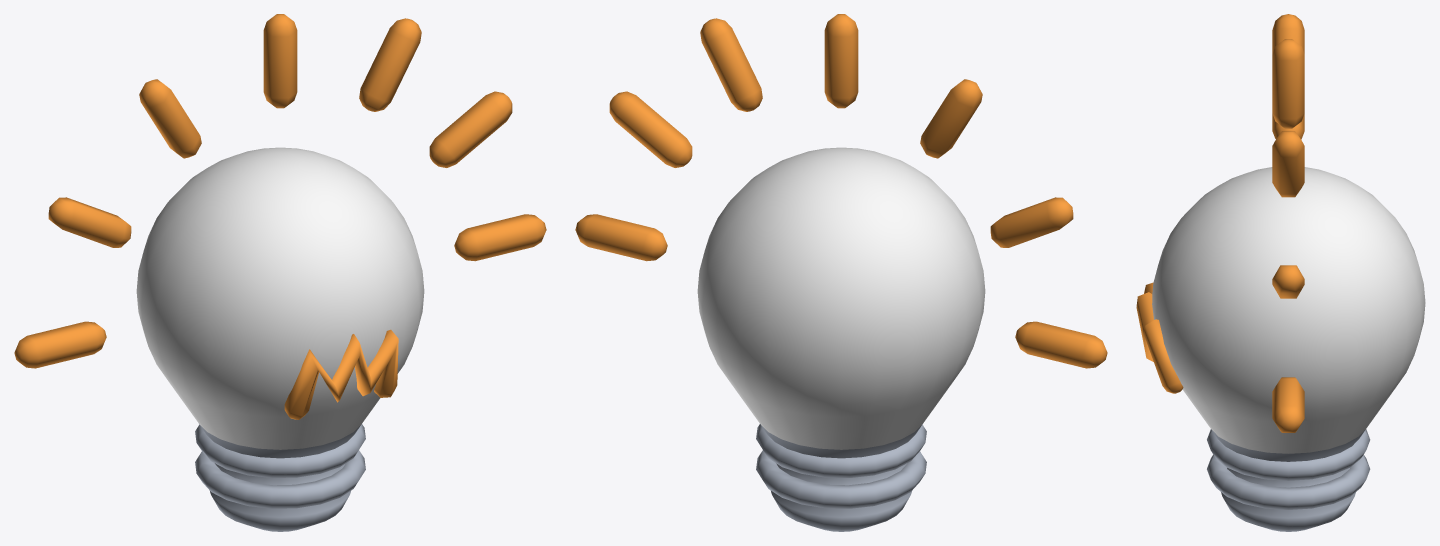
Rendered from lightbulb_on.glb.
3 renders of one model, left to right at view 1: azimuth 30°, elevation 25°; view 2: azimuth 150°, elevation 25°; view 3: azimuth 270°, elevation 25°, orthographic. The views are drawn at different scales.
Visible parts, largest first — view 1: lightbulb_on; view 2: lightbulb_on; view 3: lightbulb_on.
Part boxes in pixels (left/top/right/bottom): lightbulb_on: left=14, top=14, right=546, bottom=531; lightbulb_on: left=575, top=14, right=1107, bottom=531; lightbulb_on: left=1136, top=14, right=1425, bottom=531.
Size of the model in its own units: 1 by 0.9167 by 0.4983.
